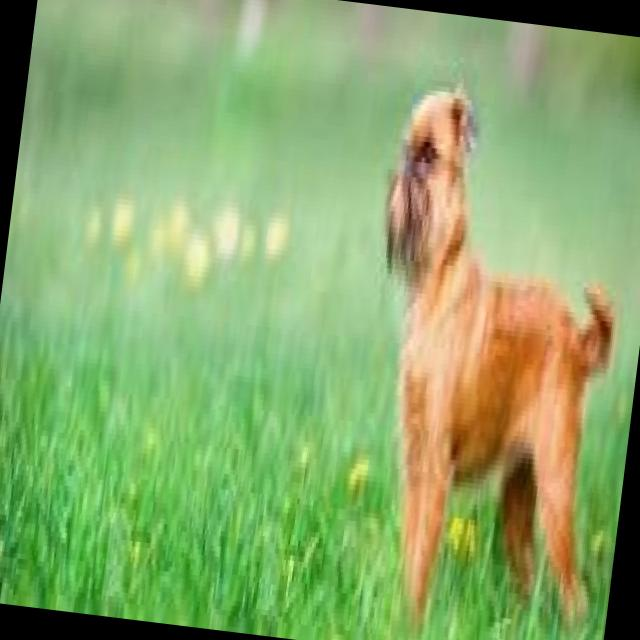Perro: (321, 68, 640, 640)
